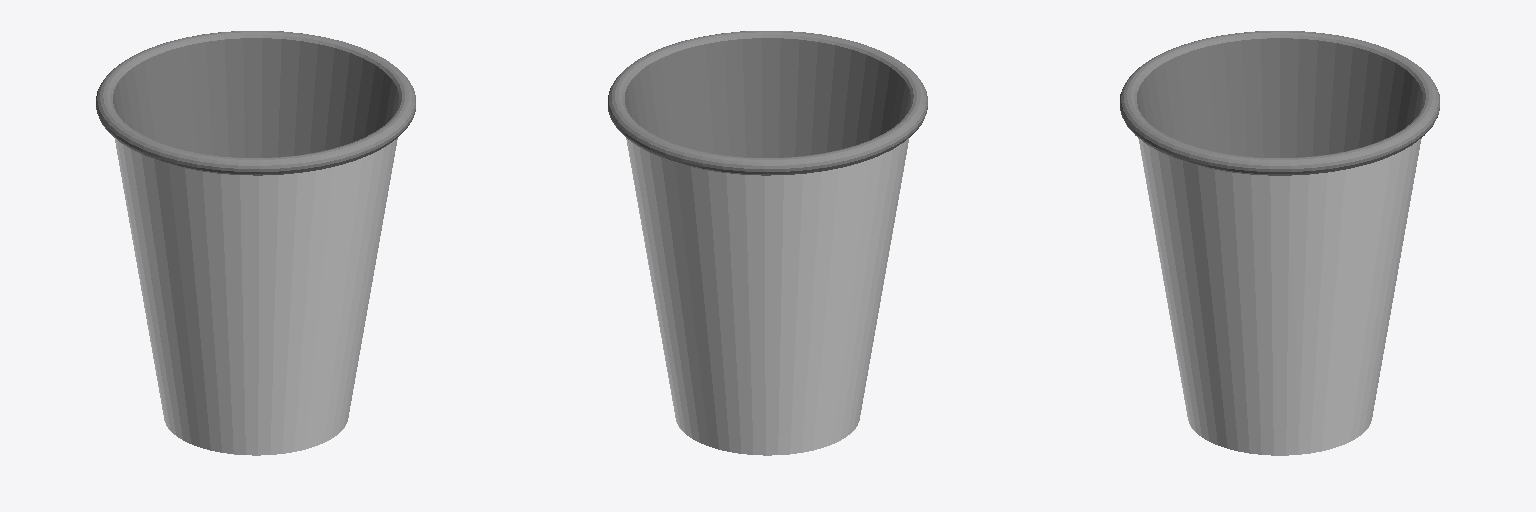
The model's file is cup.obj.
The picture shows the model from 3 angles: view 1: azimuth 30°, elevation 25°; view 2: azimuth 150°, elevation 25°; view 3: azimuth 270°, elevation 25°; orthographic projection.
Parts seen in each view (by area): view 1: outsideShape, insideShape; view 2: outsideShape, insideShape; view 3: outsideShape, insideShape.
Part boxes in pixels (x1,y1,x2,y2): outsideShape: (115, 138, 397, 455); insideShape: (96, 31, 415, 175); outsideShape: (626, 138, 908, 455); insideShape: (608, 31, 927, 175); outsideShape: (1138, 138, 1421, 455); insideShape: (1120, 31, 1439, 175).
Bounding box in the file's own units: 0.869 × 0.9606 × 0.8696.